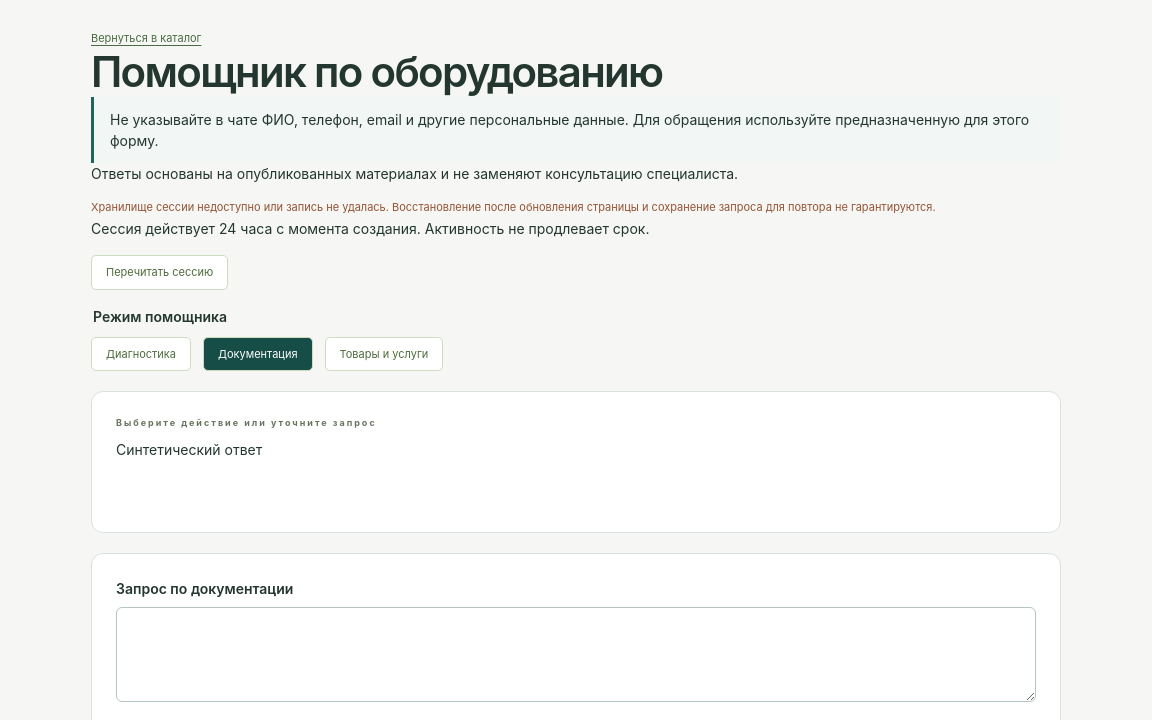
Test: shows storage limitation and 503 retry without pretending success
Type "Синтетический текст" into the text box labelled "Запрос по документации".
click(576, 654); type("Синтетический текст")  # box x1=116 y1=607 x2=1036 y2=702
(page scrolled)
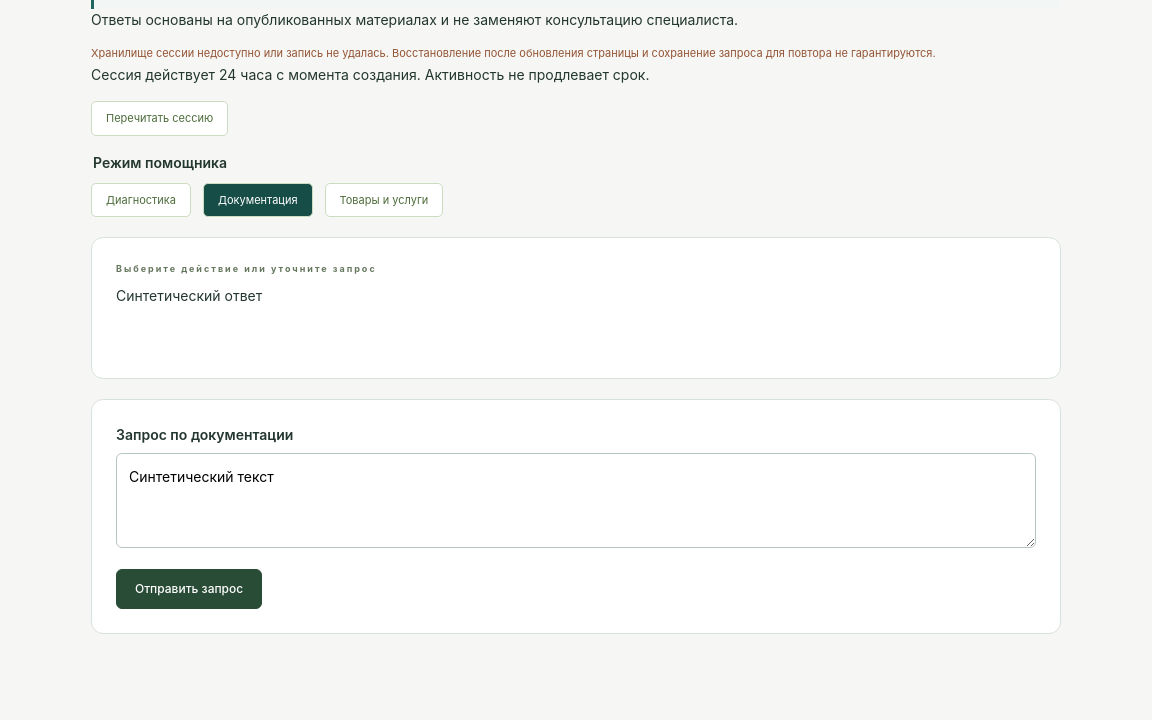
Click the button "Отправить запрос".
click(189, 589)  # box x1=116 y1=569 x2=262 y2=609
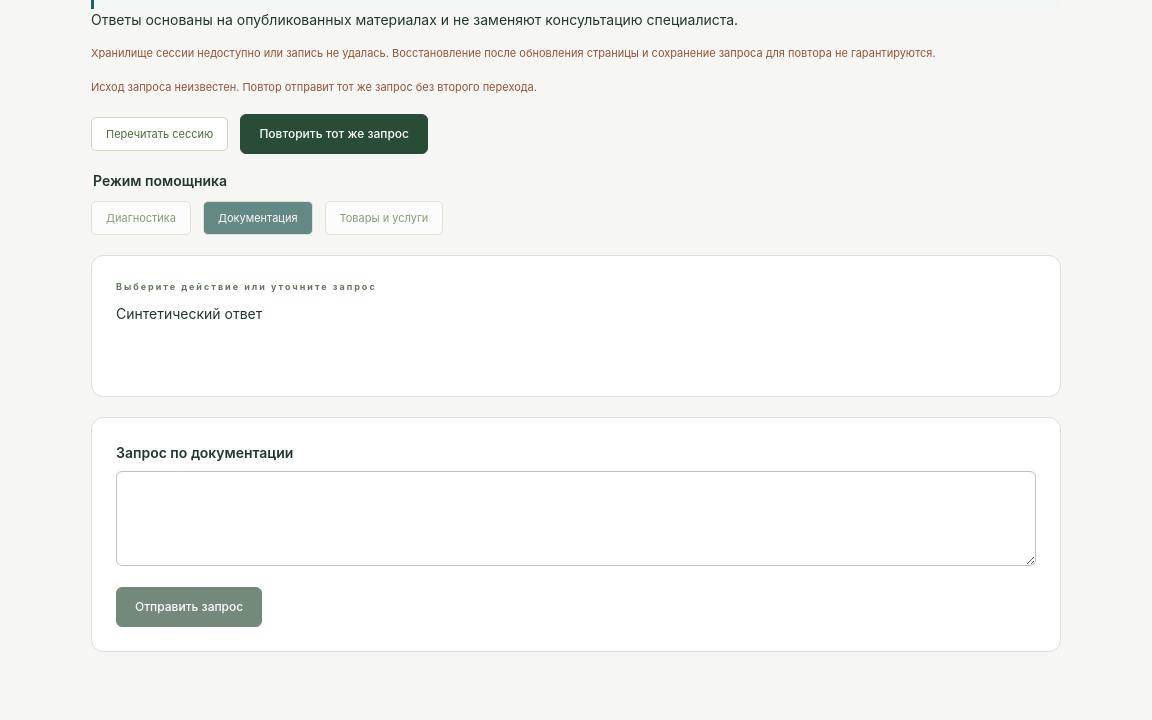
Expected: the text "Исход запроса неизвестен. Повтор отправит тот же запрос без второго перехода." is shown, x1=91 y1=80 x2=537 y2=94
Expected: the button "Повторить тот же запрос" is shown, x1=240 y1=114 x2=428 y2=154
